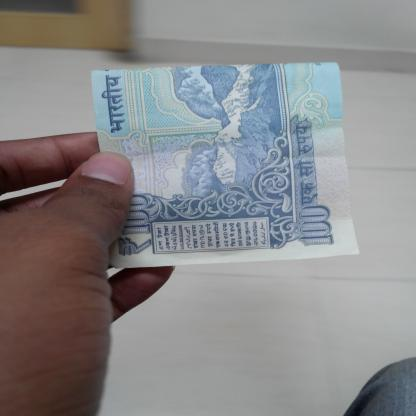Old100Back: (90, 61, 360, 268)
